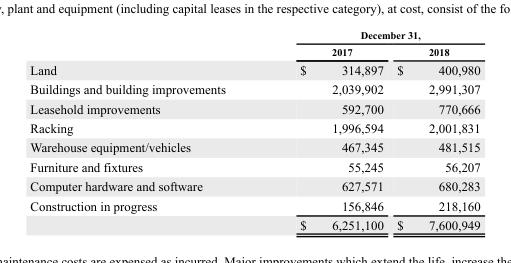table: (29, 29, 479, 231)
table column: (29, 29, 262, 231), (262, 29, 389, 231), (389, 29, 479, 231)
table column header: (29, 29, 479, 59)
table row: (29, 59, 479, 79), (29, 98, 479, 118), (29, 156, 479, 176), (29, 79, 479, 98), (29, 118, 479, 137), (29, 137, 479, 156), (29, 176, 479, 195), (29, 195, 479, 214), (29, 214, 479, 231), (29, 43, 479, 59), (29, 29, 479, 43)
table spanning cell: (262, 29, 479, 43)
